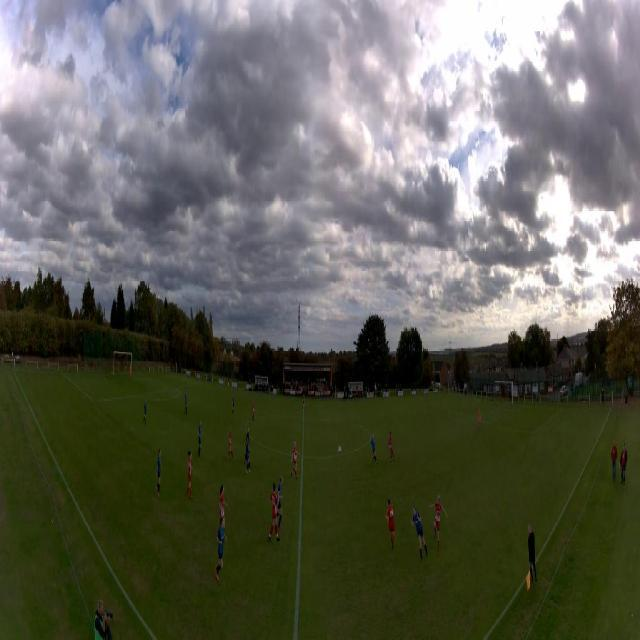ball: (337, 446, 341, 454)
player: (429, 496, 448, 558), (410, 502, 428, 562), (215, 517, 227, 583), (268, 481, 280, 542), (386, 499, 396, 550), (219, 483, 228, 528), (185, 450, 193, 500), (291, 442, 301, 480), (277, 475, 284, 529), (156, 447, 163, 499), (245, 436, 252, 474), (244, 427, 250, 464), (371, 435, 378, 465), (228, 427, 234, 461), (388, 432, 395, 461), (198, 419, 203, 459), (143, 398, 147, 424), (478, 408, 482, 430), (185, 390, 188, 414), (252, 400, 255, 421), (302, 394, 306, 409), (232, 395, 235, 413), (130, 363, 132, 381)
